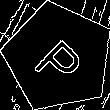P_NE: (27, 26, 90, 88)
